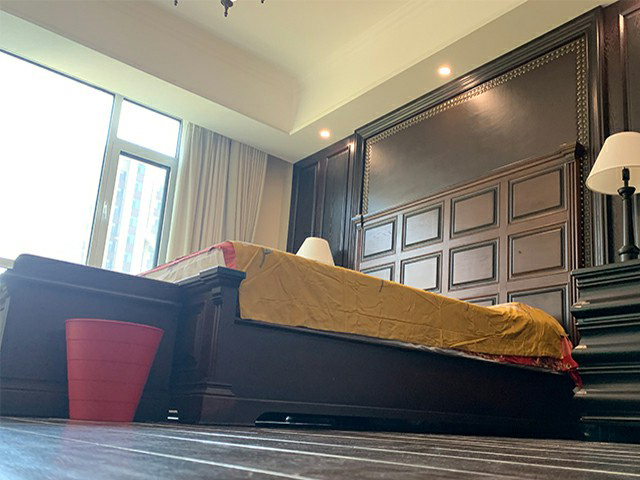bed: (138, 240, 582, 439)
cabinet: (569, 258, 640, 446)
stool: (1, 253, 185, 423)
trashcan: (63, 316, 164, 426)
